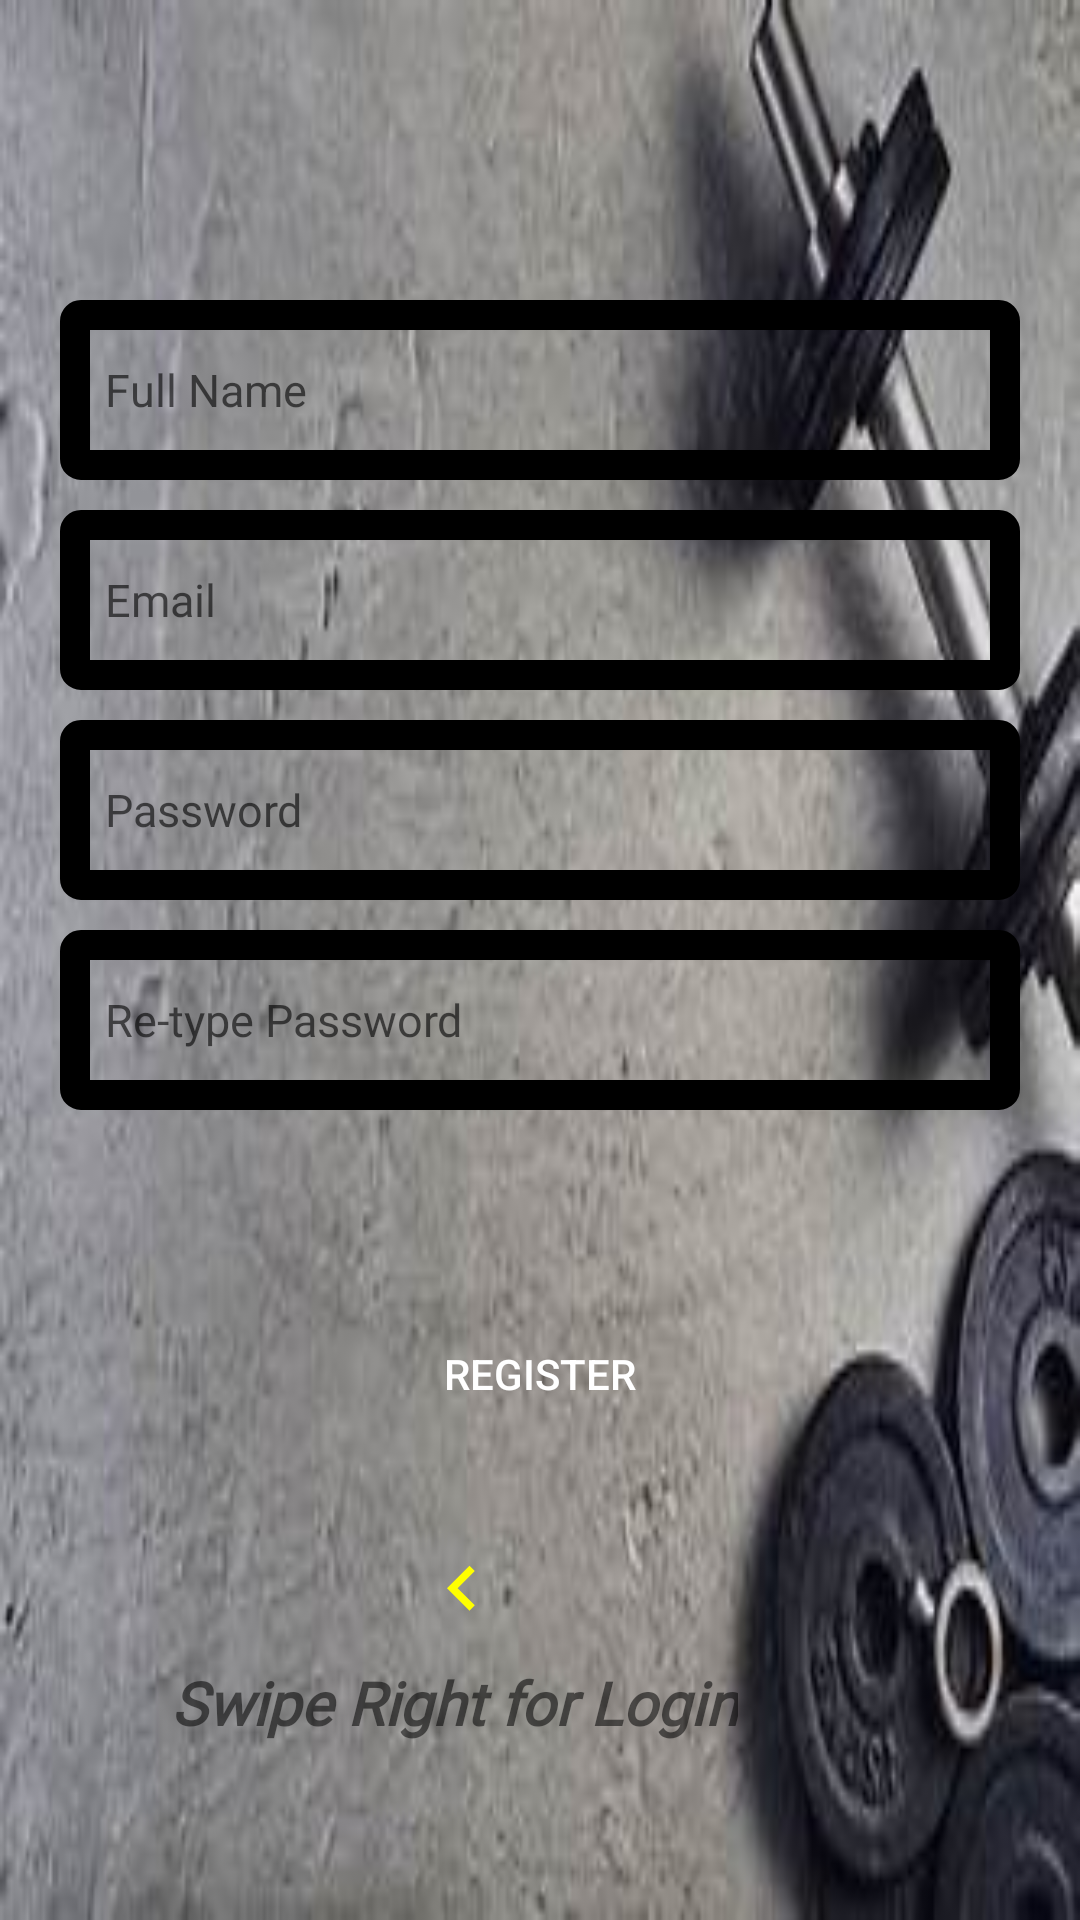

Icon bounding boxes for this 1080px×1920px phone screenshot, format (left=x1, top=y1, right=x2, bottom=y2):
arrow left: (left=447, top=1566, right=475, bottom=1611)
